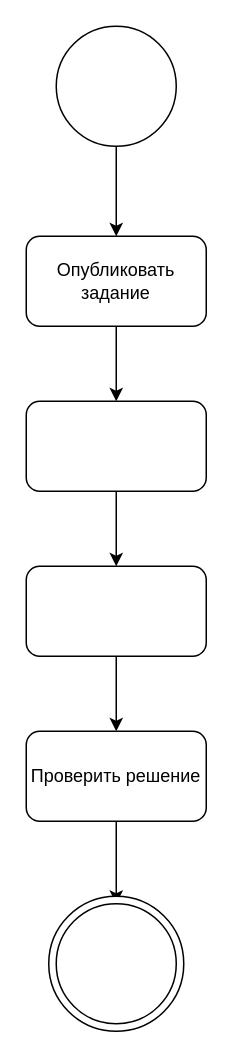
The diagram is 233 pixels wide and 1058 high, and some of its shapes have lost their labels. Each missing label, with the box of its shape:
Загрузить решение: (25, 565, 206, 656)
Получить задание: (25, 400, 206, 491)
